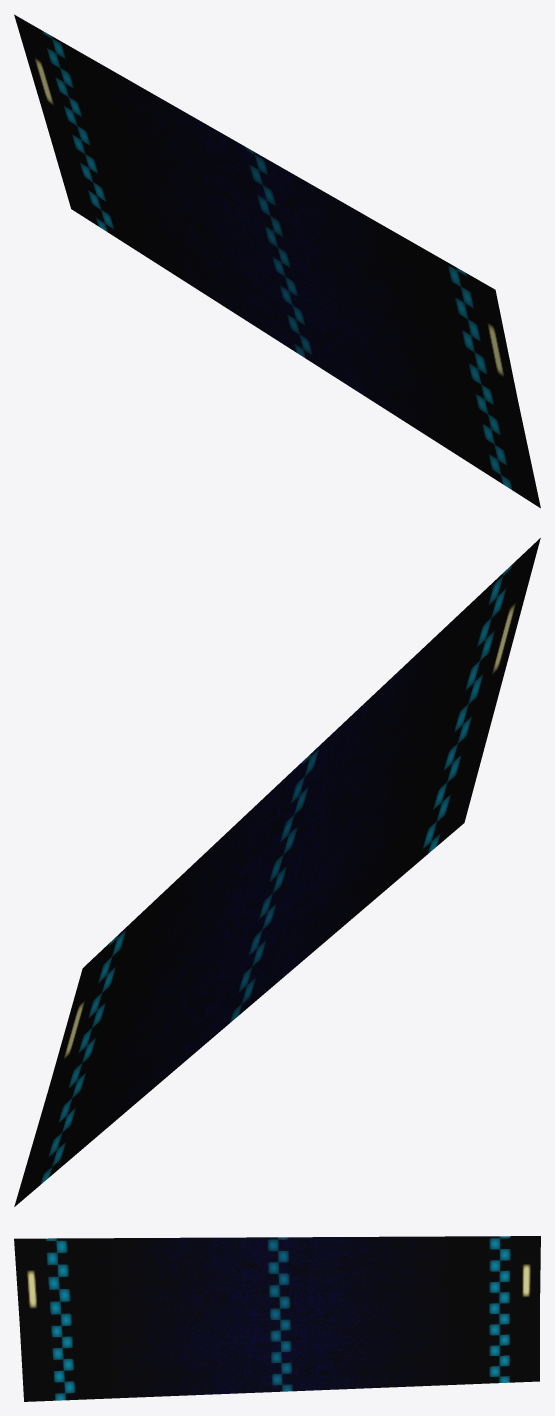
File: stadium_checkpoint.glb
3 renders of one model, top to bottom at view 1: azimuth 30°, elevation 25°; view 2: azimuth 150°, elevation 25°; view 3: azimuth 270°, elevation 25°, orthographic. The views are drawn at different scales.
Parts seen in each view (by area): view 1: Object_67; view 2: Object_67; view 3: Object_67.
Part boxes in pixels (x1=…): Object_67: x1=14, y1=14, x2=540, y2=508; Object_67: x1=14, y1=538, x2=540, y2=1206; Object_67: x1=14, y1=1236, x2=540, y2=1401.
Size of the model in its own units: 1.18 by 2.45 by 7.96.
Materials: 1 (1 with a texture image).
